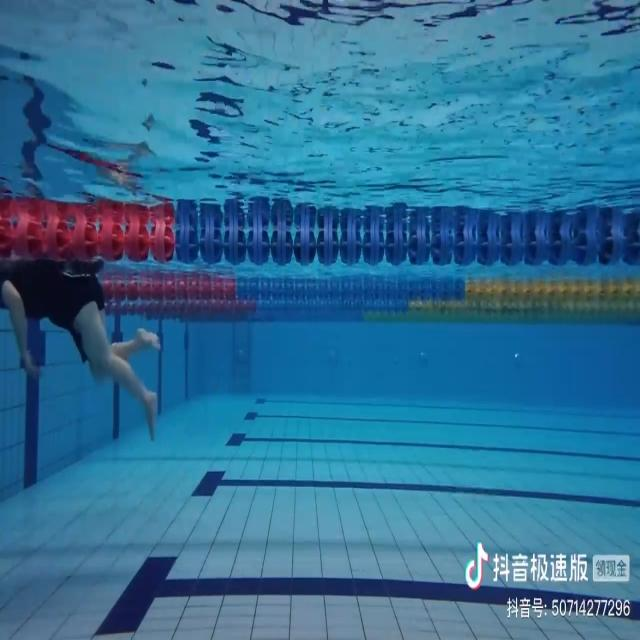Swimming: (0, 260, 160, 442)
